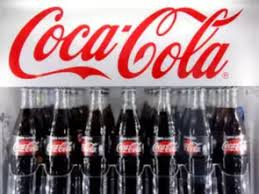coke-glass-bottle: (73, 89, 113, 194), (5, 87, 43, 192), (180, 88, 214, 193), (115, 90, 147, 193), (147, 88, 178, 192), (219, 87, 249, 194), (43, 89, 72, 193)
